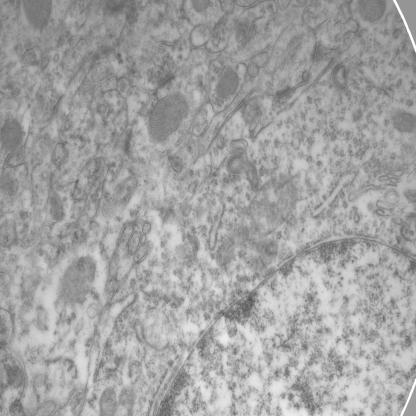mitochondria: (148, 90, 188, 142), (217, 66, 240, 104), (391, 108, 416, 136)
